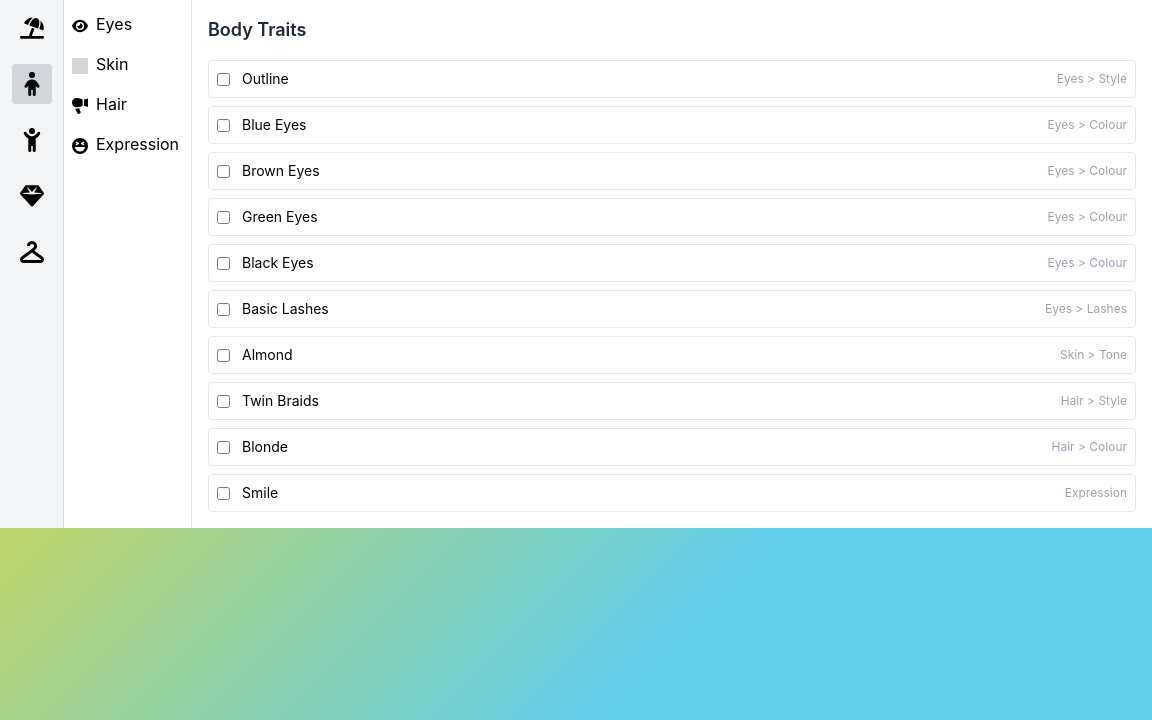
TraitsPanel › filters by category2 when selected
// Select Accessory category1
What coordinates should you click on to do the following:
click the 4th button with alt text "Accessory"
I would click on:
 (32, 196)
Its box is [12,176,52,216].
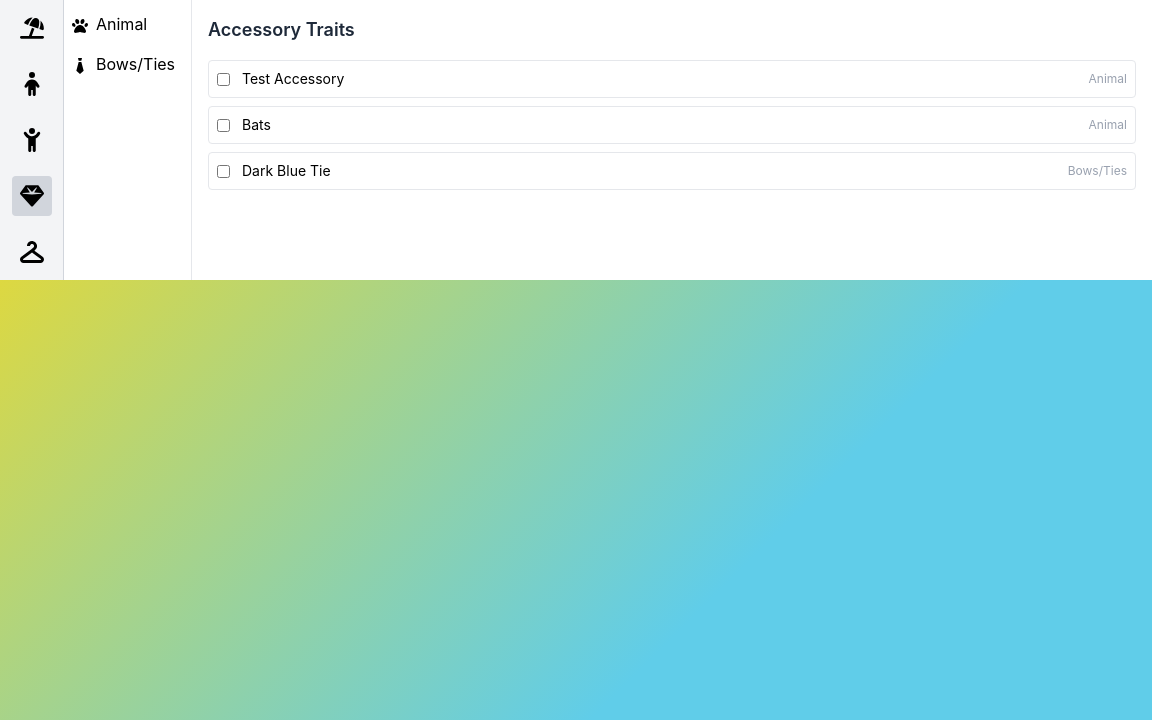
// Click on Animal category2 button (not the text in trait list)
What coordinates should you click on to do the following:
click the button "Animal"
I would click on:
 (128, 24)
Its box is [72,8,183,40].
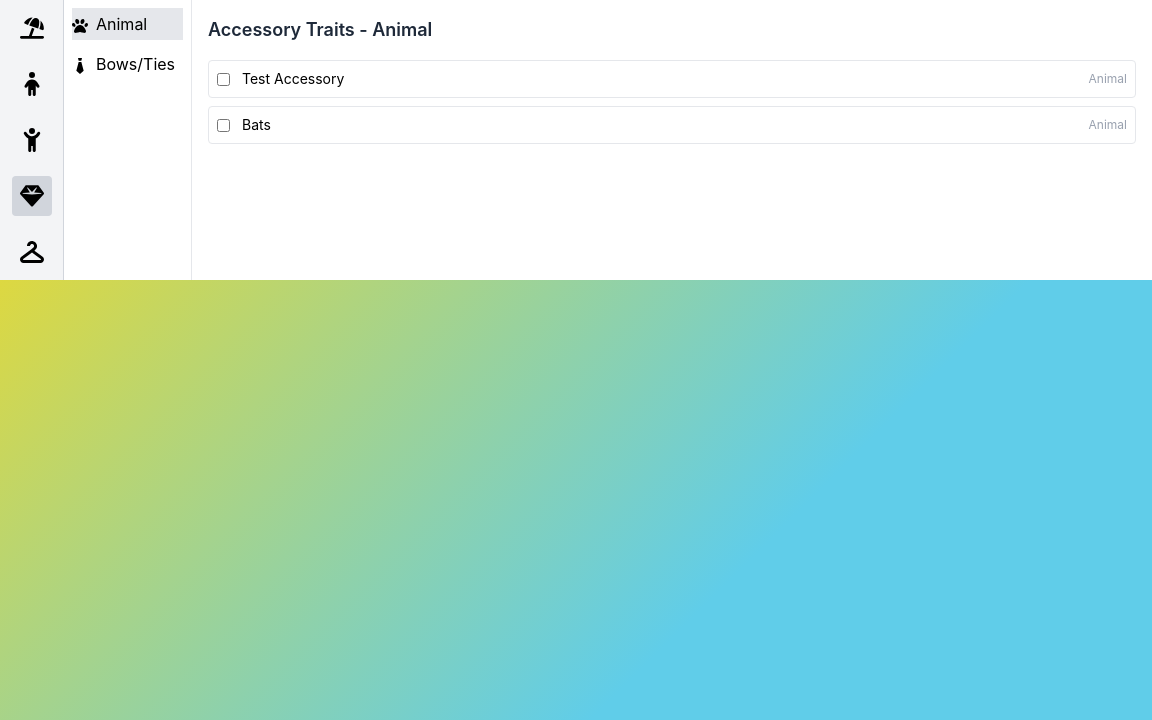
expect the text "Bats" is shown: met, box [242,116,271,133]
expect the text "Dark Blue Tie" is gone: met
